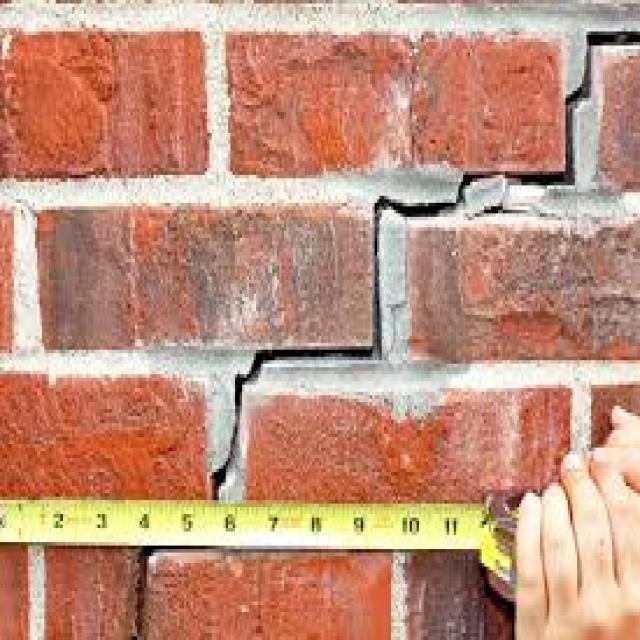Crack: (205, 21, 638, 500)
